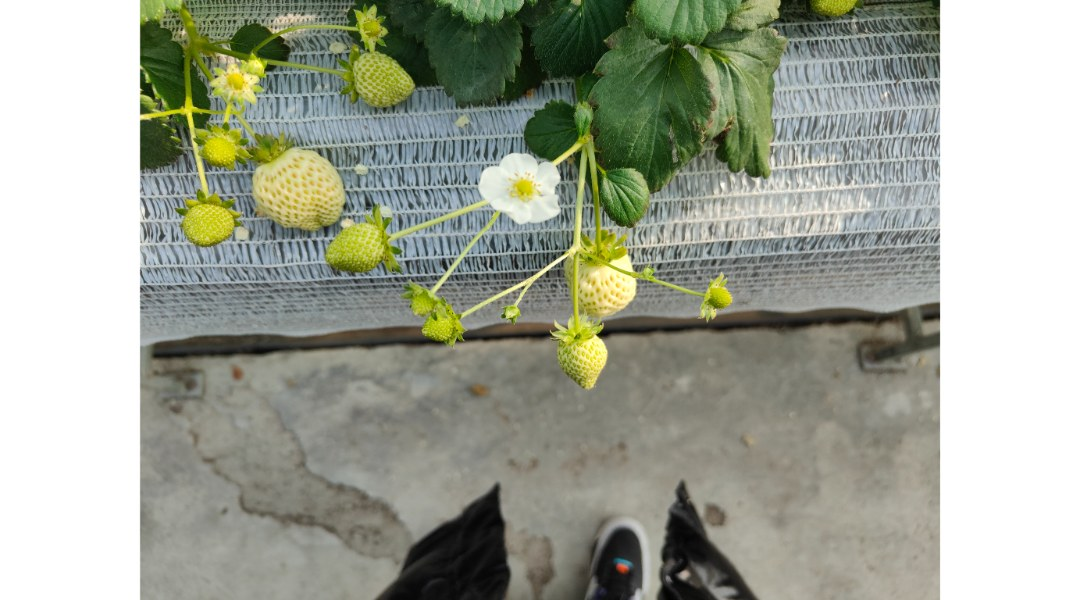berry: (235, 132, 357, 246), (566, 235, 646, 327), (335, 43, 424, 118), (166, 184, 250, 257), (326, 205, 394, 290), (549, 309, 613, 398), (205, 55, 260, 113), (696, 261, 735, 332), (398, 266, 447, 322), (196, 118, 245, 170), (417, 303, 466, 349)
flower: (471, 144, 563, 235)
strain: (436, 210, 501, 285), (382, 200, 475, 243), (469, 288, 514, 317), (654, 276, 713, 297), (573, 159, 581, 249)
